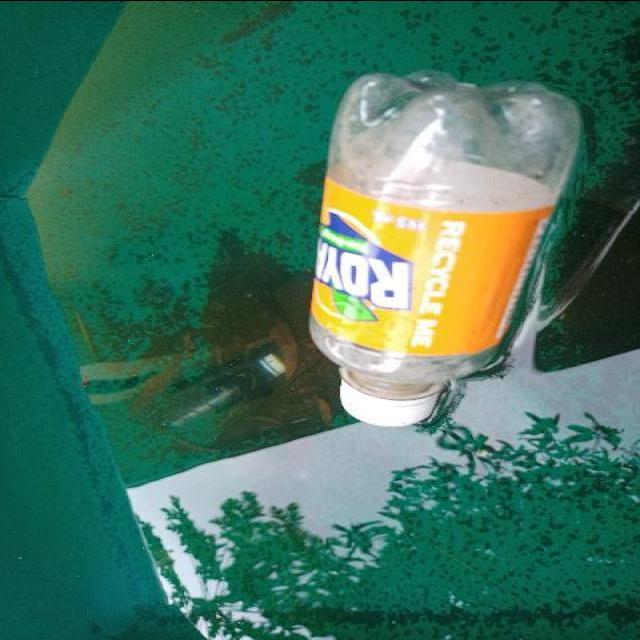Bottle: (300, 61, 596, 434)
